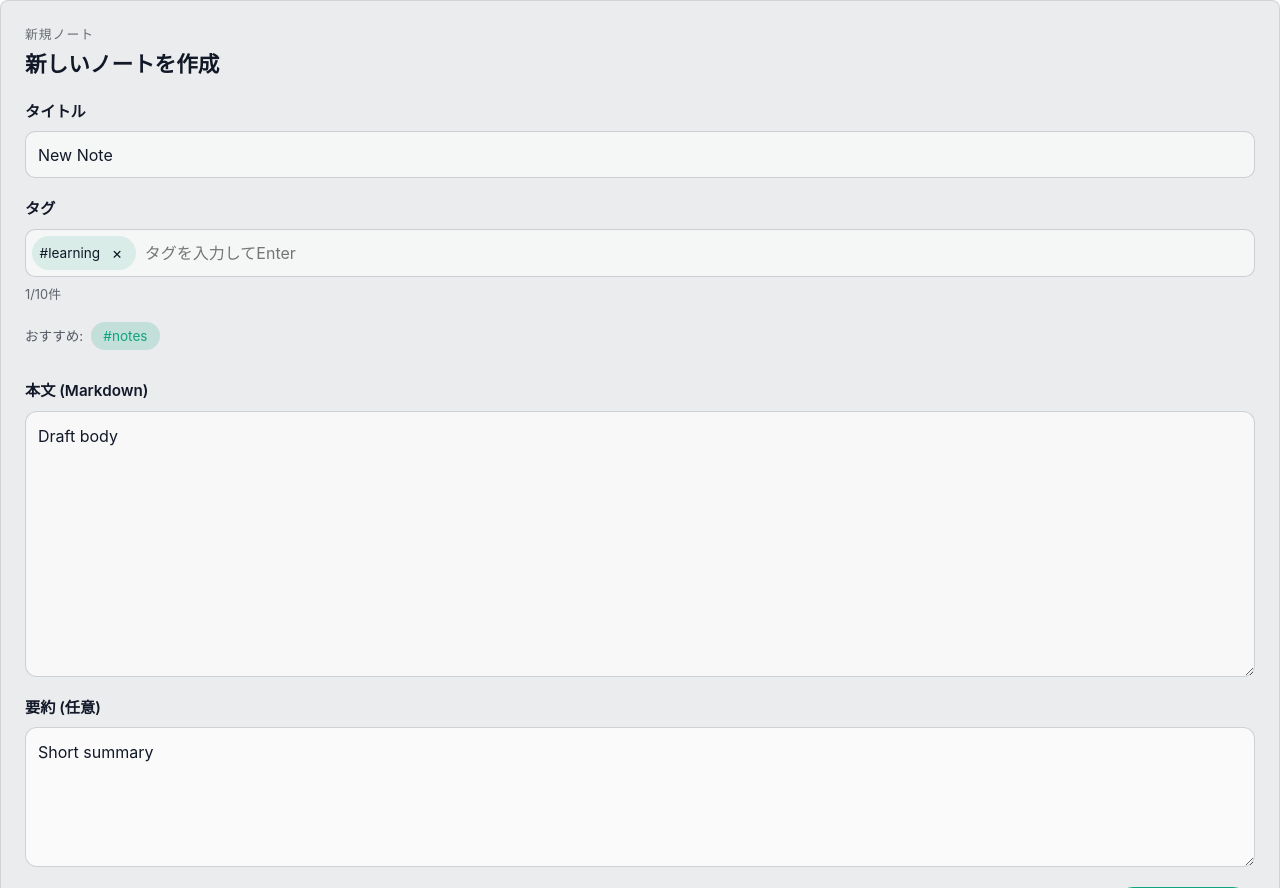
Test case: NoteEditor › renders draft fields and applies tag suggestions
This screenshot has width=1280, height=888.
Expected: the field labelled "タイトル" holds "New Note", top-left (25, 131), bottom-right (1255, 178)
What coordinates should you click on to do the following:
click the button "#notes"
I would click on:
 (125, 336)
Its box is top-left (91, 322), bottom-right (160, 350).
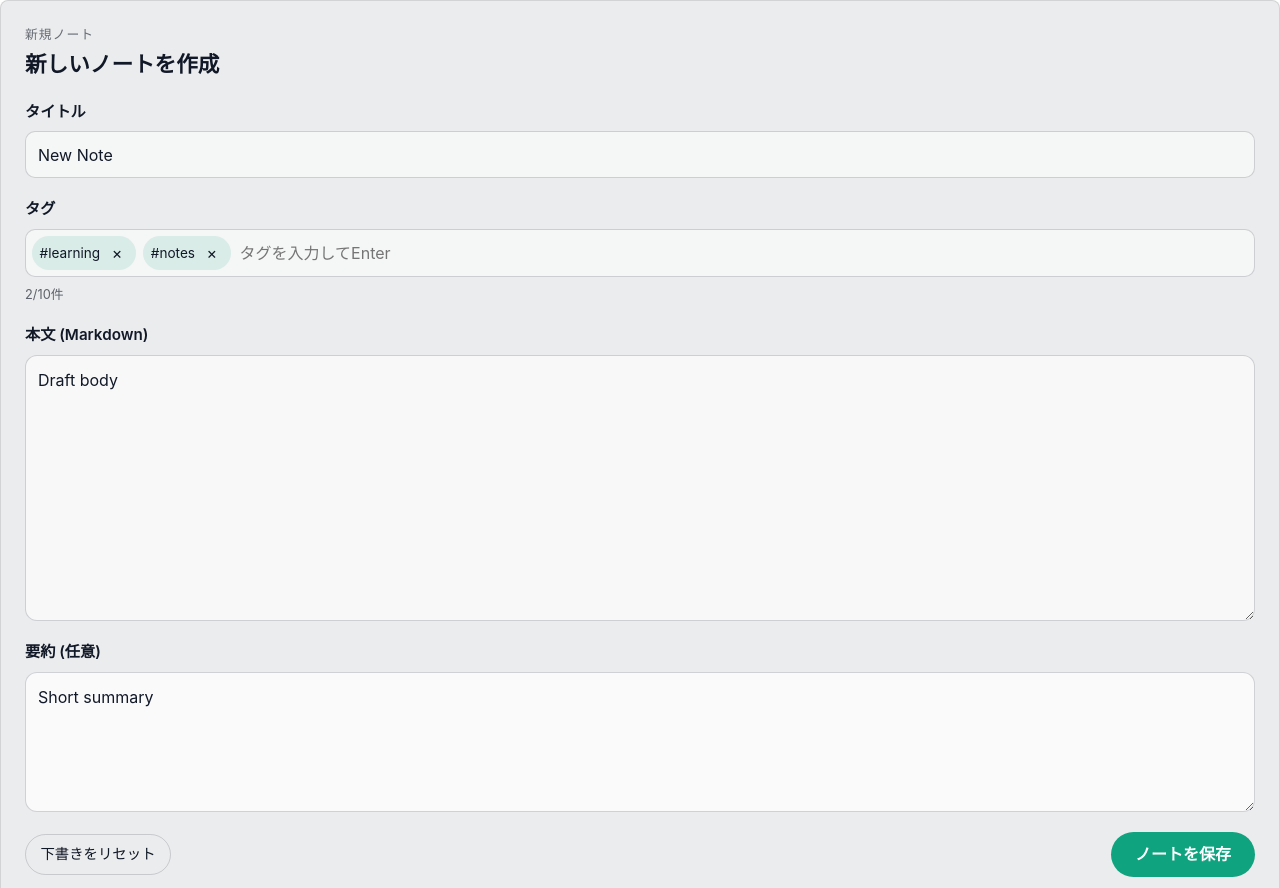
Expected: the text "#notes" is shown, top-left (143, 236), bottom-right (231, 270)
